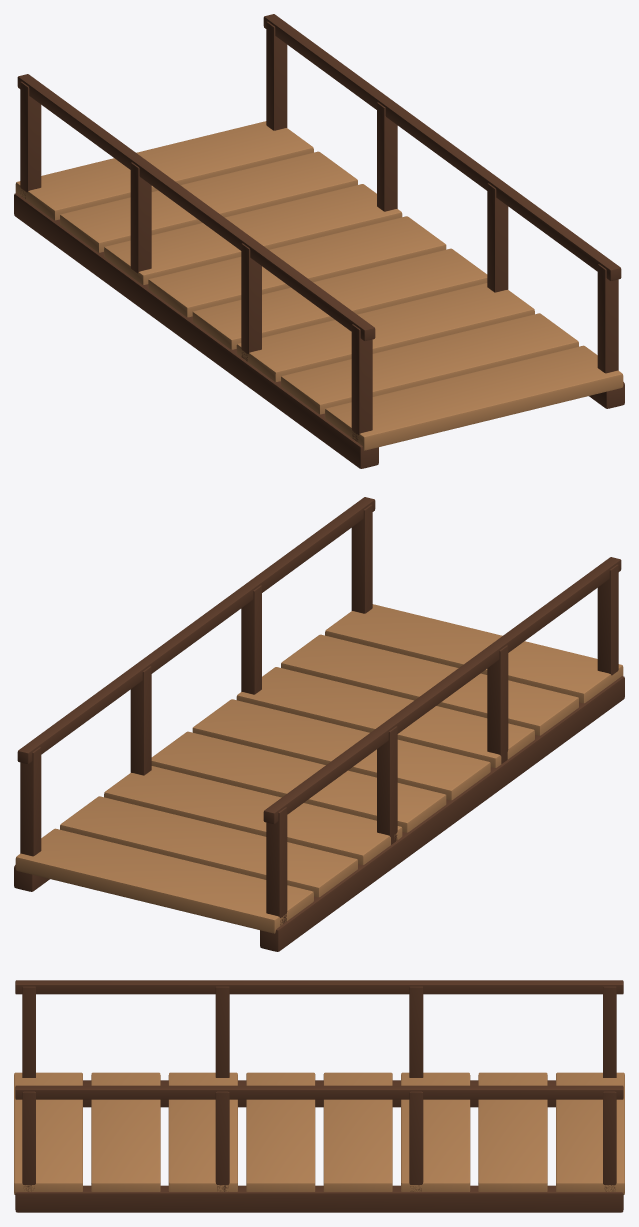
The model's file is bridge.glb.
3 renders of one model, top to bottom at view 1: azimuth 30°, elevation 25°; view 2: azimuth 150°, elevation 25°; view 3: azimuth 270°, elevation 25°, orthographic. The views are drawn at different scales.
Visible parts, largest first — view 1: bridge; view 2: bridge; view 3: bridge.
Boxes of the visible parts, x1,y1,x2,y2 form: bridge: (14,14,624,468); bridge: (14,497,624,951); bridge: (14,980,624,1212).
Size of the model in its own units: 1.94 by 0.97 by 4.42.
